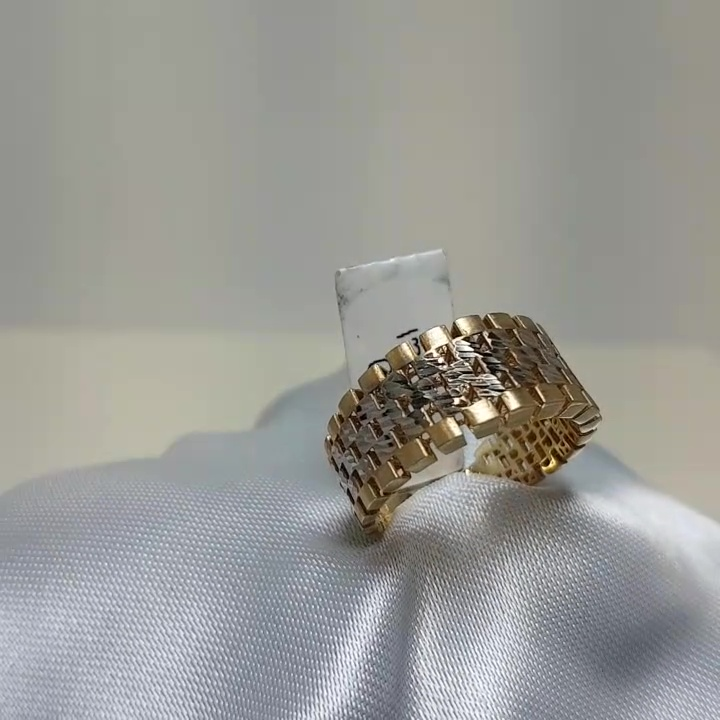Ring 1: (310, 264, 601, 546)
